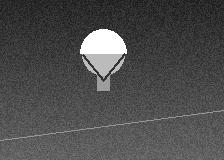helmet: (80, 29, 126, 80)
